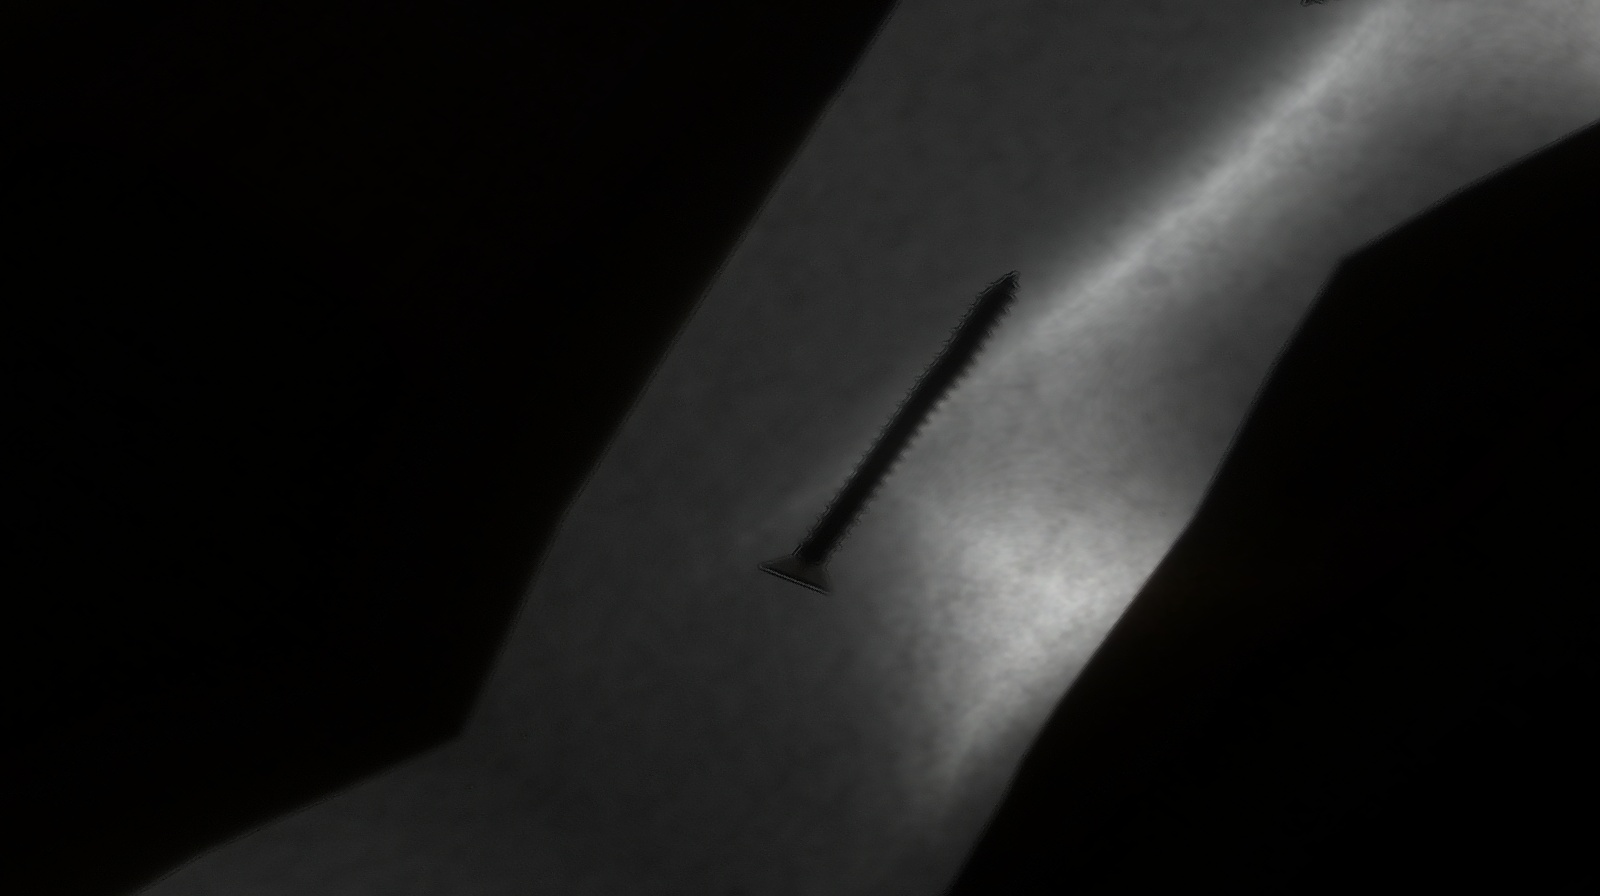S002: (685, 257, 1131, 626)
